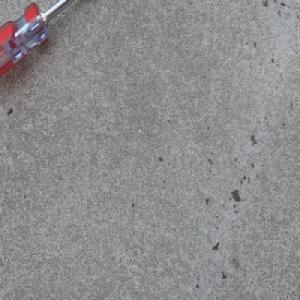Screwdriver: (0, 0, 89, 89)
